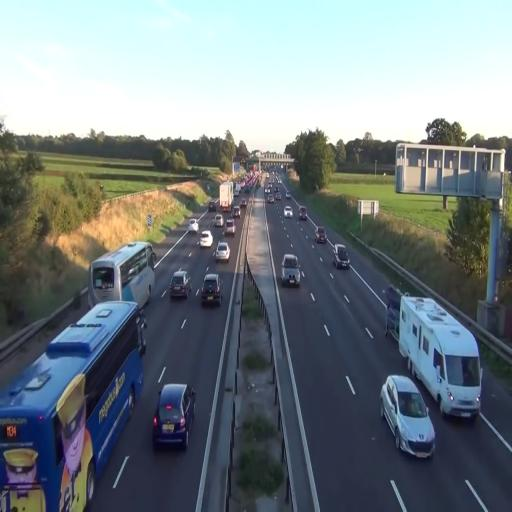vehicle: (0, 298, 144, 508), (398, 293, 482, 422), (380, 374, 436, 460), (88, 241, 155, 310), (152, 383, 194, 450), (280, 253, 303, 287), (200, 272, 222, 306), (170, 268, 190, 300), (333, 244, 351, 270), (214, 240, 230, 261), (199, 230, 214, 250)
